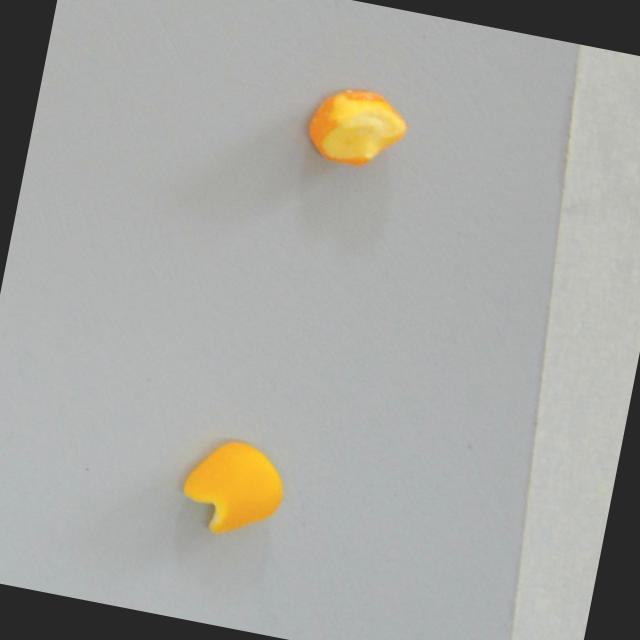no_canjicado: (175, 433, 292, 546)
pelicula: (301, 81, 415, 178)
